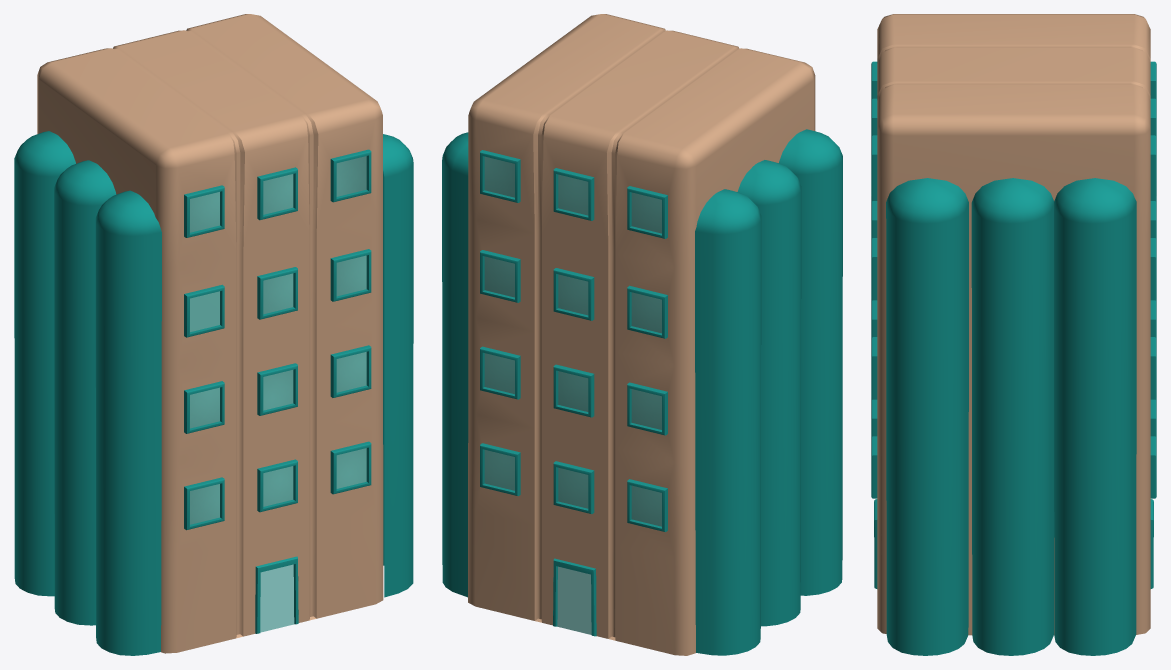
File: SM_Skyscraper_02.fbx
3 renders of one model, left to right at view 1: azimuth 30°, elevation 25°; view 2: azimuth 150°, elevation 25°; view 3: azimuth 270°, elevation 25°, orthographic. The views are drawn at different scales.
Visible parts, largest first — view 1: SM_Skyscraper_02; view 2: SM_Skyscraper_02; view 3: SM_Skyscraper_02.
Part boxes in pixels (x1=…): SM_Skyscraper_02: x1=14, y1=14, x2=413, y2=655; SM_Skyscraper_02: x1=442, y1=14, x2=842, y2=655; SM_Skyscraper_02: x1=871, y1=14, x2=1156, y2=655.
Bounding box in the file's own units: 997 × 1545 × 777.
